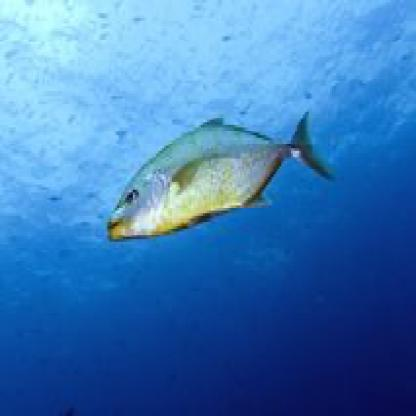Carangidae -Jacks-: (97, 90, 335, 246)
